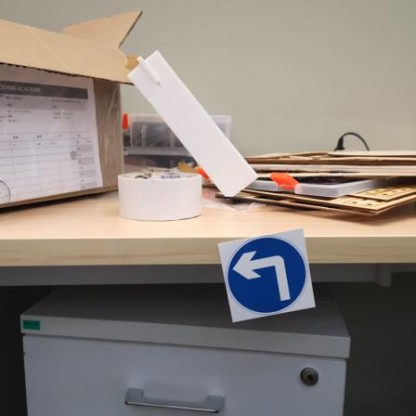left: (218, 229, 325, 325)
